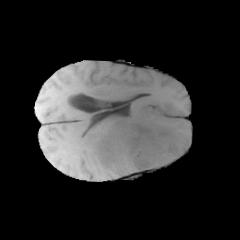glioma: (88, 97, 190, 174)
